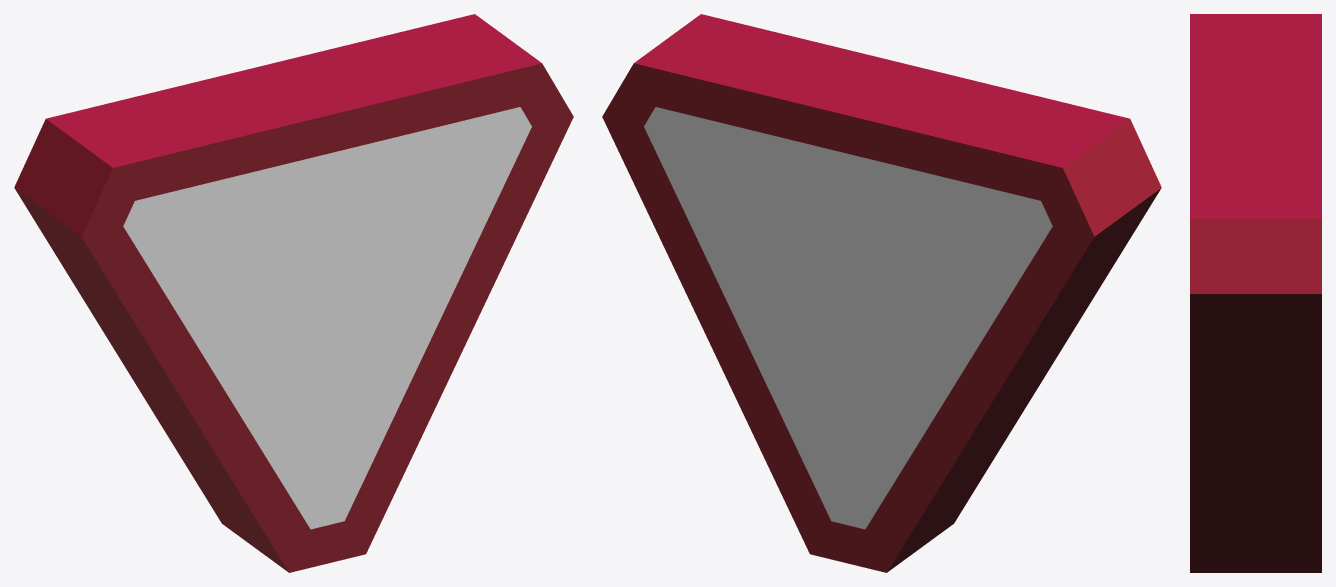
File: TB_CITY_Prop_Sign_D.FBX
3 views of the same model, side by side, from view 1: azimuth 30°, elevation 25°; view 2: azimuth 150°, elevation 25°; view 3: azimuth 270°, elevation 25° (orthographic). The views are drawn at different scales.
Parts seen in each view (by area): view 1: TB_CITY_Prop_Sign_D; view 2: TB_CITY_Prop_Sign_D; view 3: TB_CITY_Prop_Sign_D.
Part boxes in pixels (<box>): TB_CITY_Prop_Sign_D: <box>14,14,573,572</box>; TB_CITY_Prop_Sign_D: <box>602,14,1161,572</box>; TB_CITY_Prop_Sign_D: <box>1190,14,1321,572</box>.
Bounding box in the file's own units: 1.27 × 1.11 × 0.3016.
